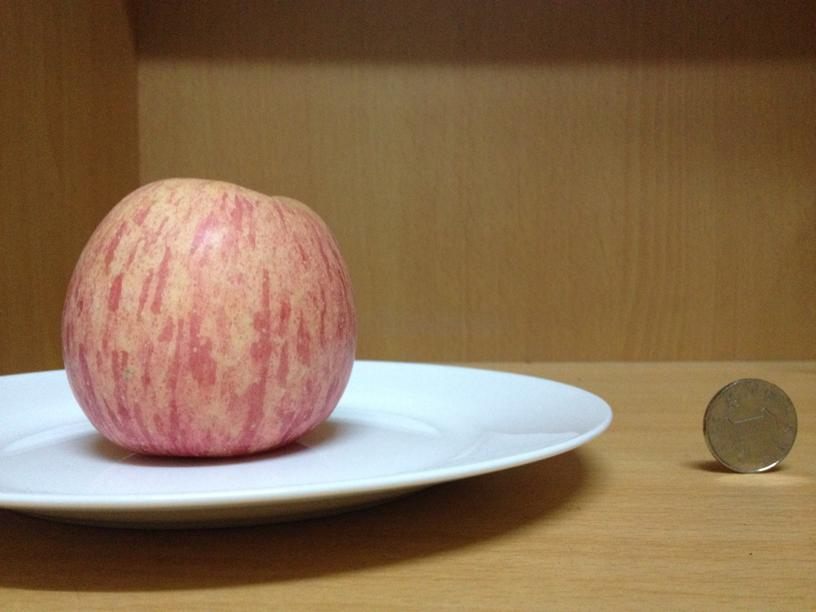apple: (62, 177, 360, 460)
coin: (703, 377, 801, 476)
